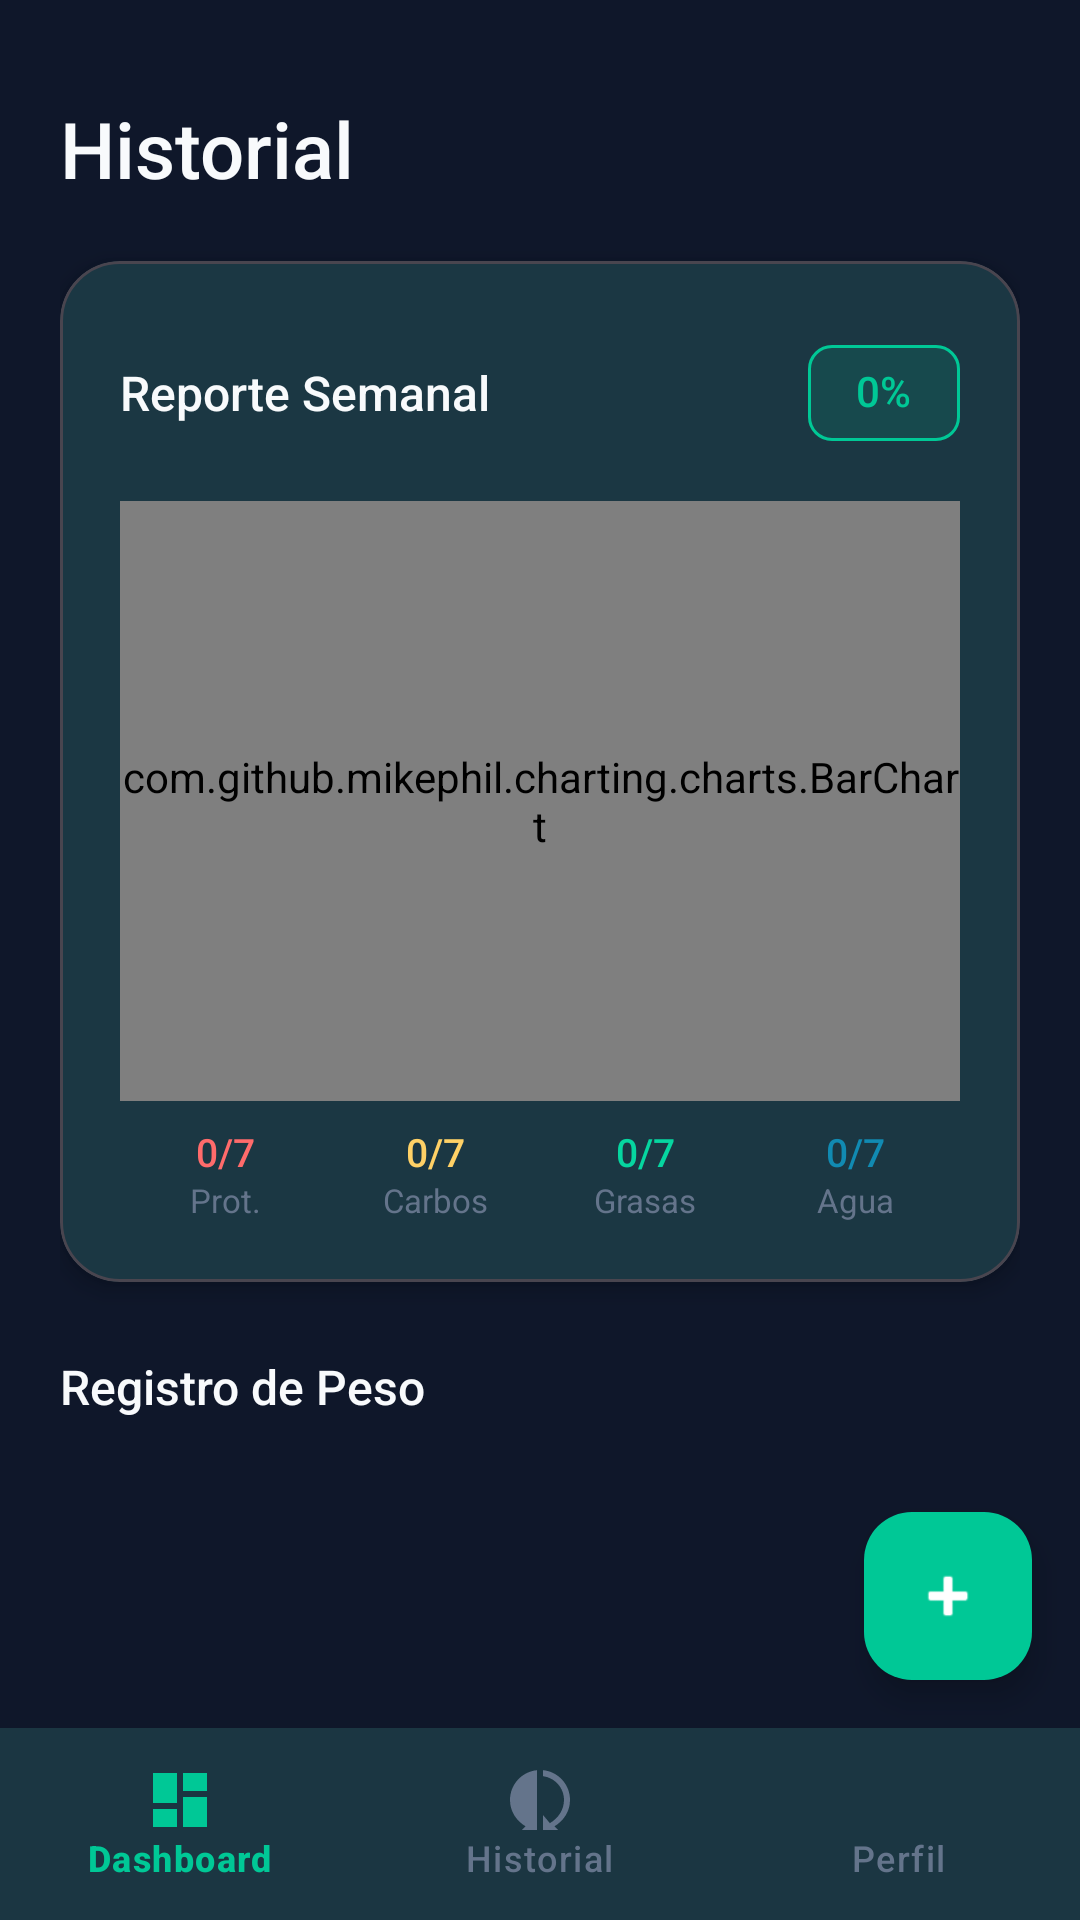

Screen size 1080 × 1920. Icon name, then its center in pixels as [x,y]:
Nuevo pesaje: [948,1596]
